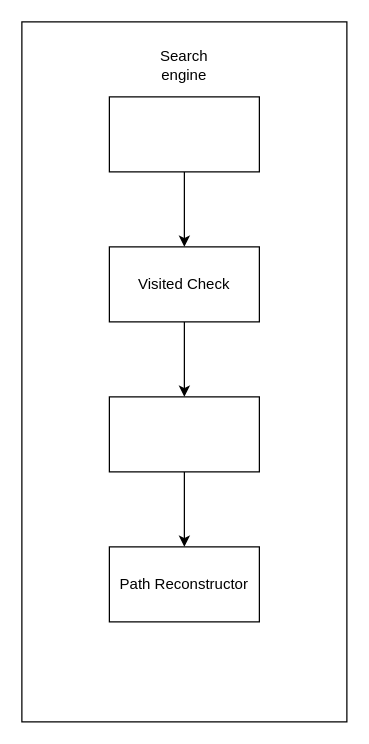
Image size: 369x744. Some labels were removed from this diagram. Each missing label, with the centre of its shape:
"Frontier / Queue" goes at [183,134].
"Goal test" goes at [183,434].
